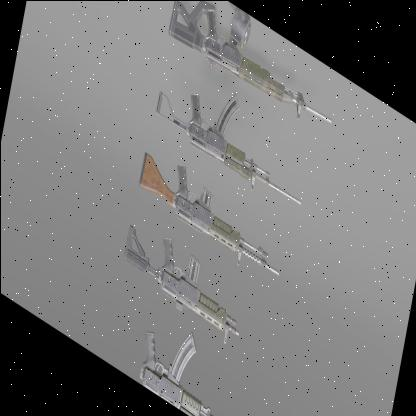rifle: (148, 51, 306, 219), (127, 138, 287, 289), (116, 206, 249, 358)
